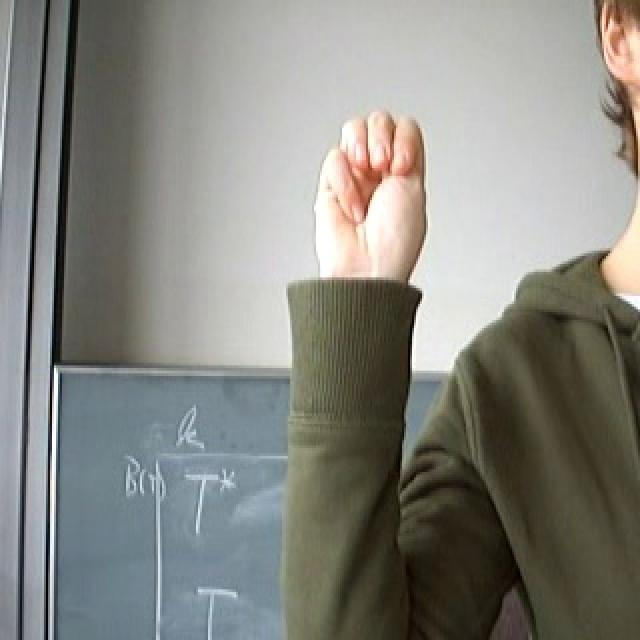M: (258, 88, 452, 317)
